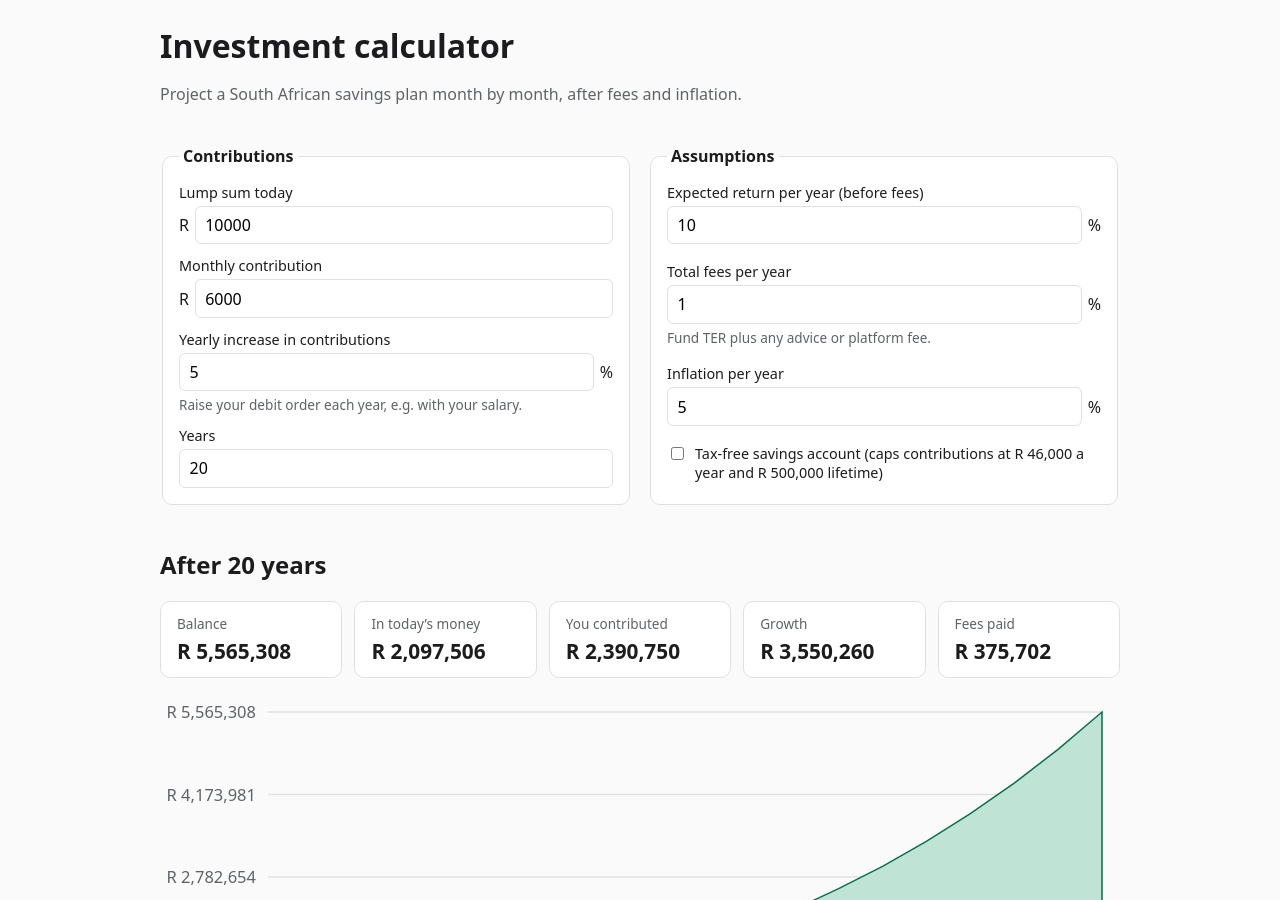
Test case: App › warns when TFSA limits hold contributions back
Click the checkbox labelled "Tax-free savings account": (678, 453) [671,447,684,460]
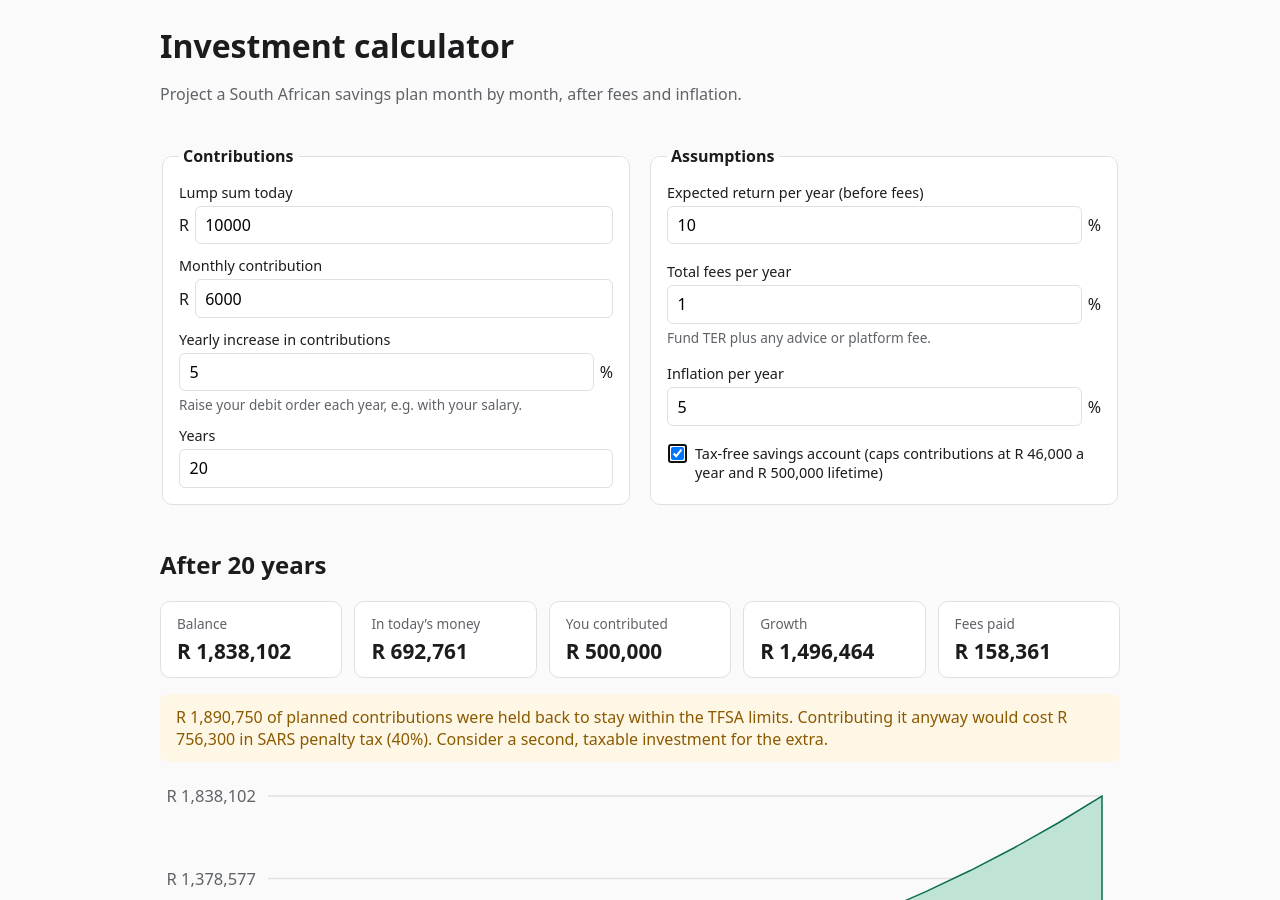
expect the message with test id "tfsa-notice" shows "penalty tax (40%)": met, box [235,728,828,750]
